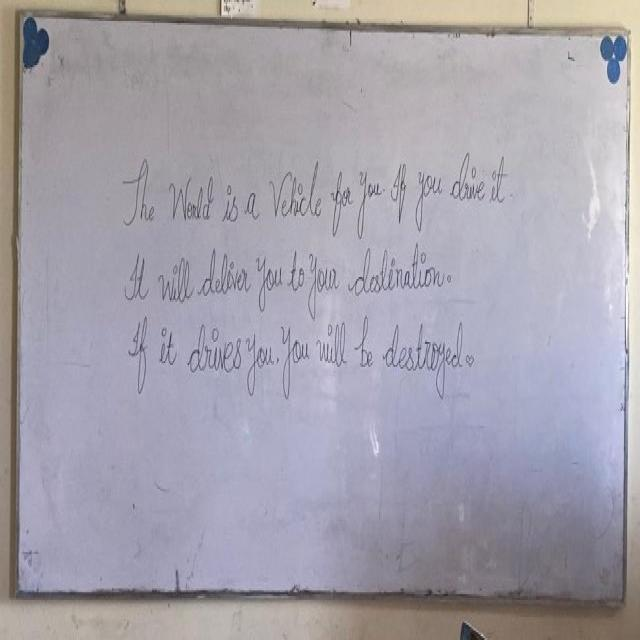White-board: (20, 14, 631, 604)
